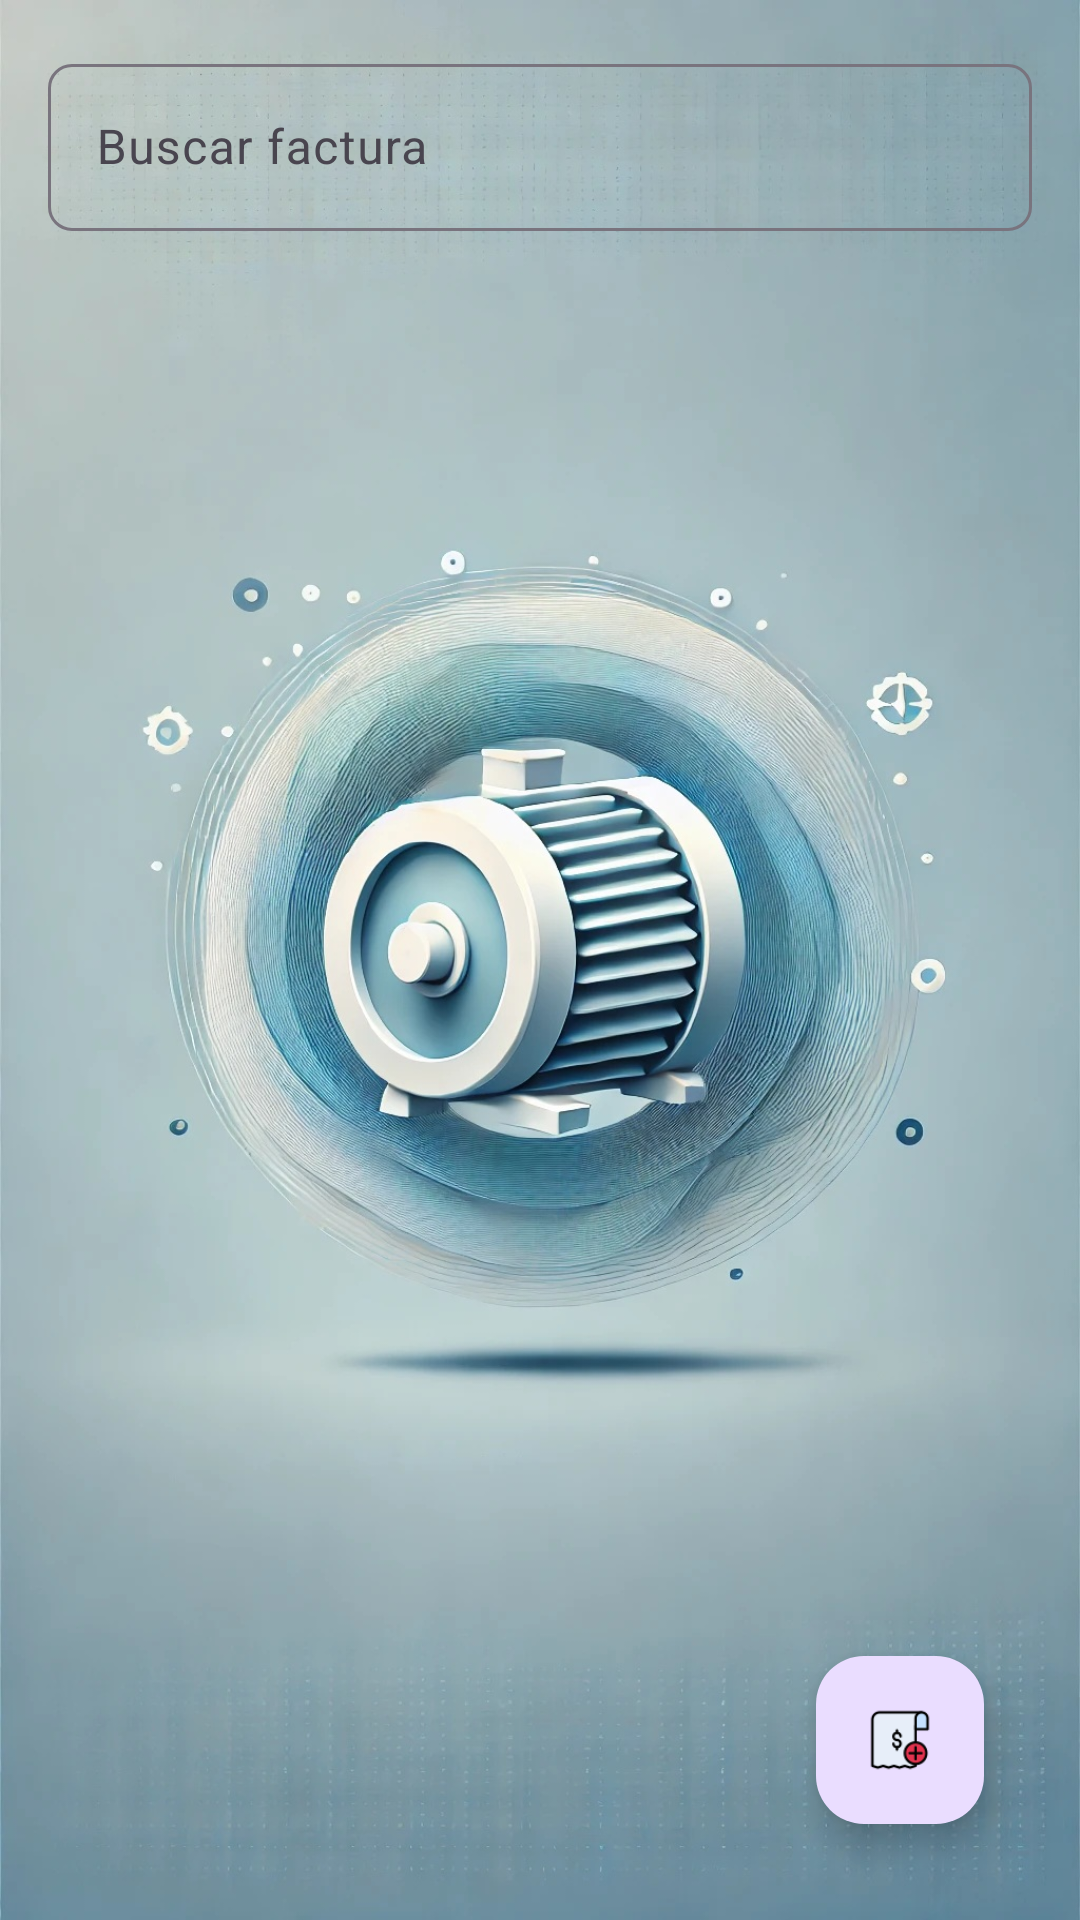

Named icons in this screenshot (1080*1920) and their centers, (x=x, y=y):
Agregar factura: (x=900, y=1740)
